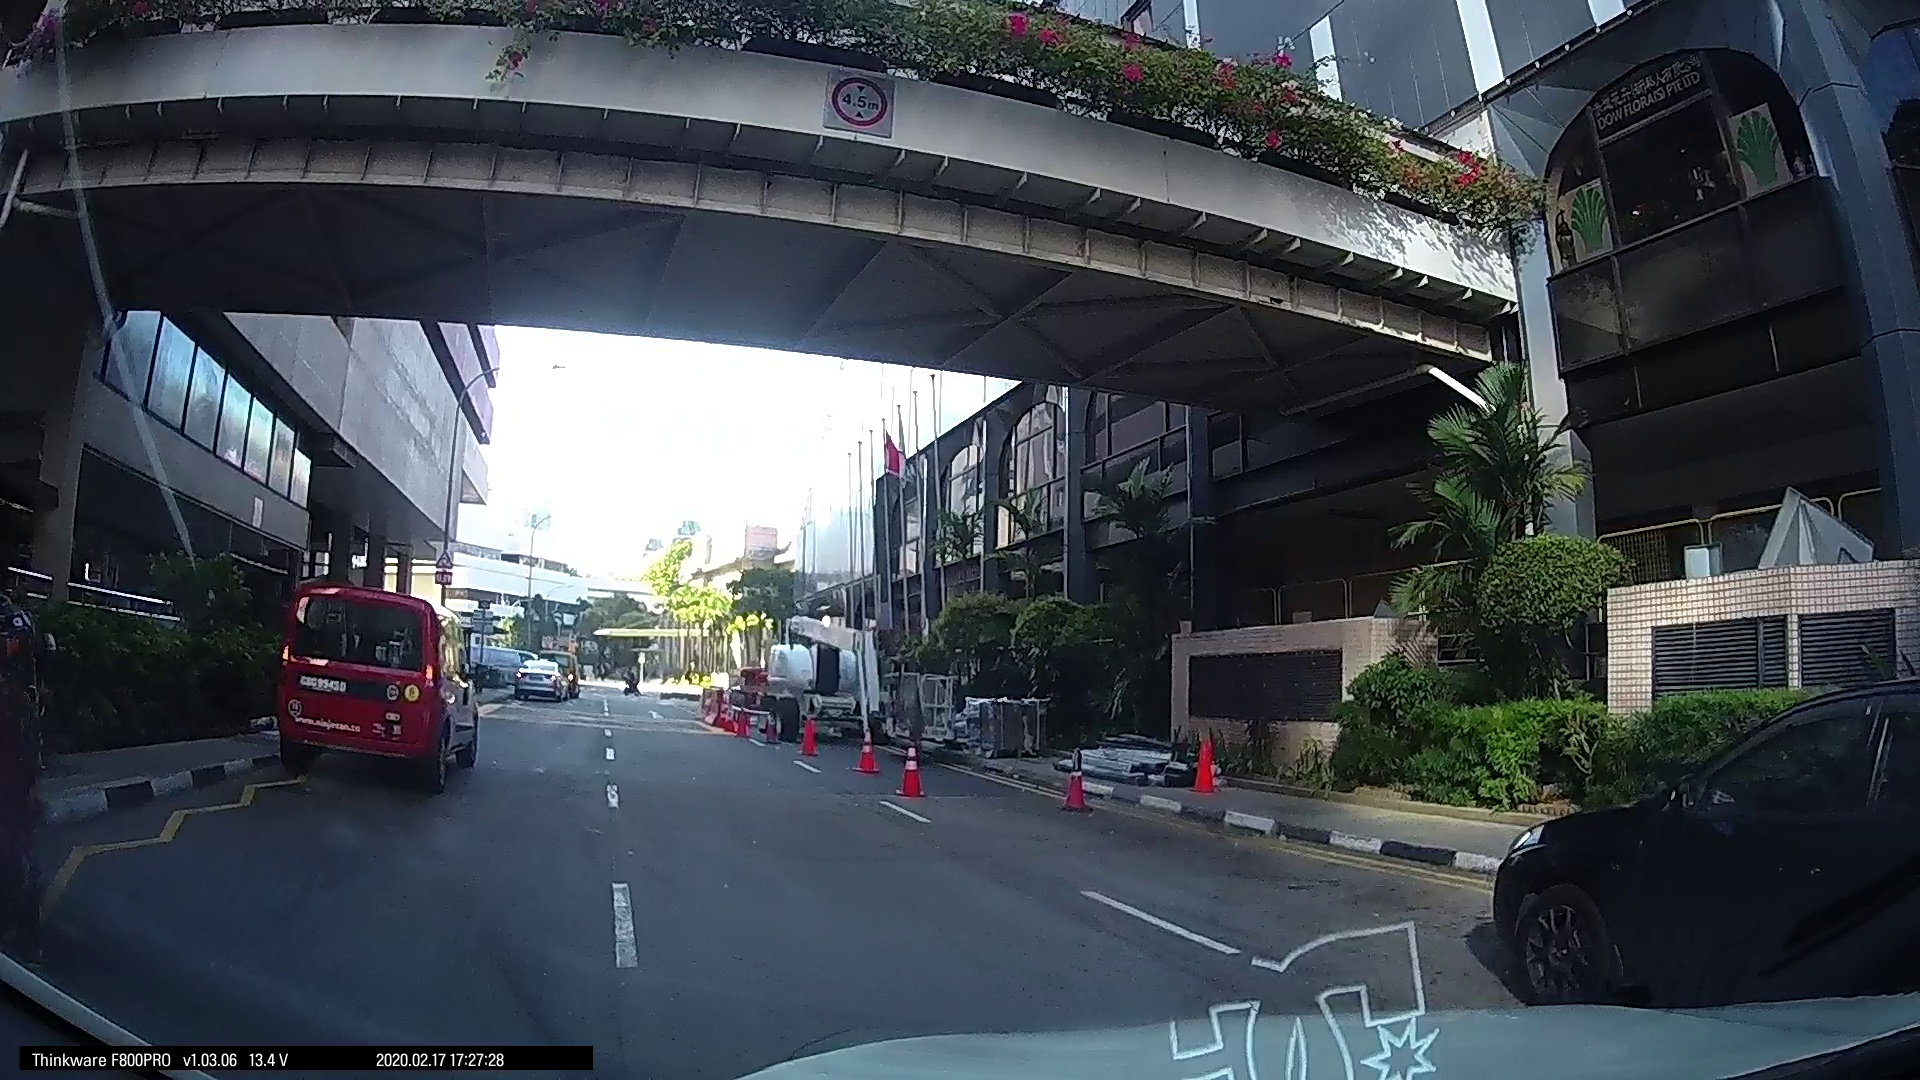Light Vehicle: (1, 510, 688, 1004), (637, 644, 785, 824), (1362, 666, 1526, 786), (1749, 707, 1890, 816), (731, 638, 837, 767), (837, 618, 924, 702), (1105, 647, 1163, 699), (986, 651, 1036, 694)
